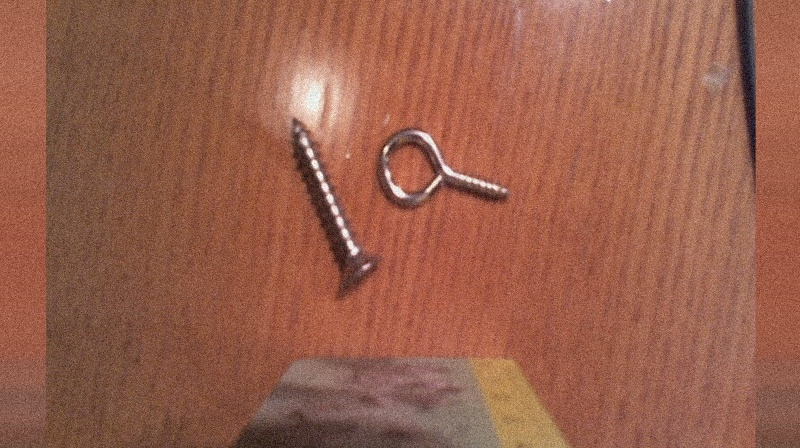O001: (372, 124, 513, 210)
S001: (285, 115, 384, 299)
